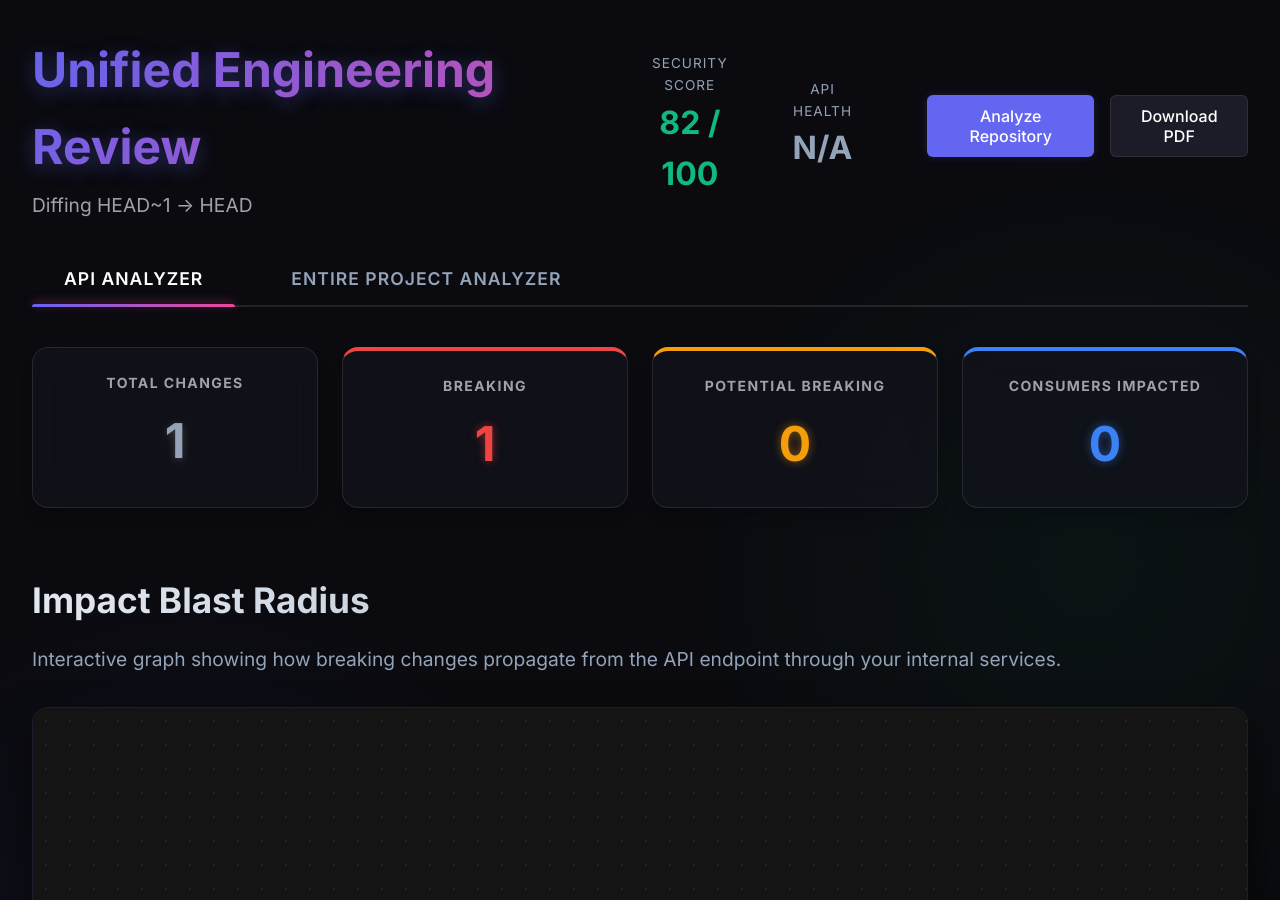
Test: AnalysisReportView › 3. Real issue rendering & 6. Evidence rendering
The width and height of the screenshot is (1280, 900).
Click the button "ENTIRE PROJECT ANALYZER" at (426, 279), box [259,252,593,305]
(page scrolled)
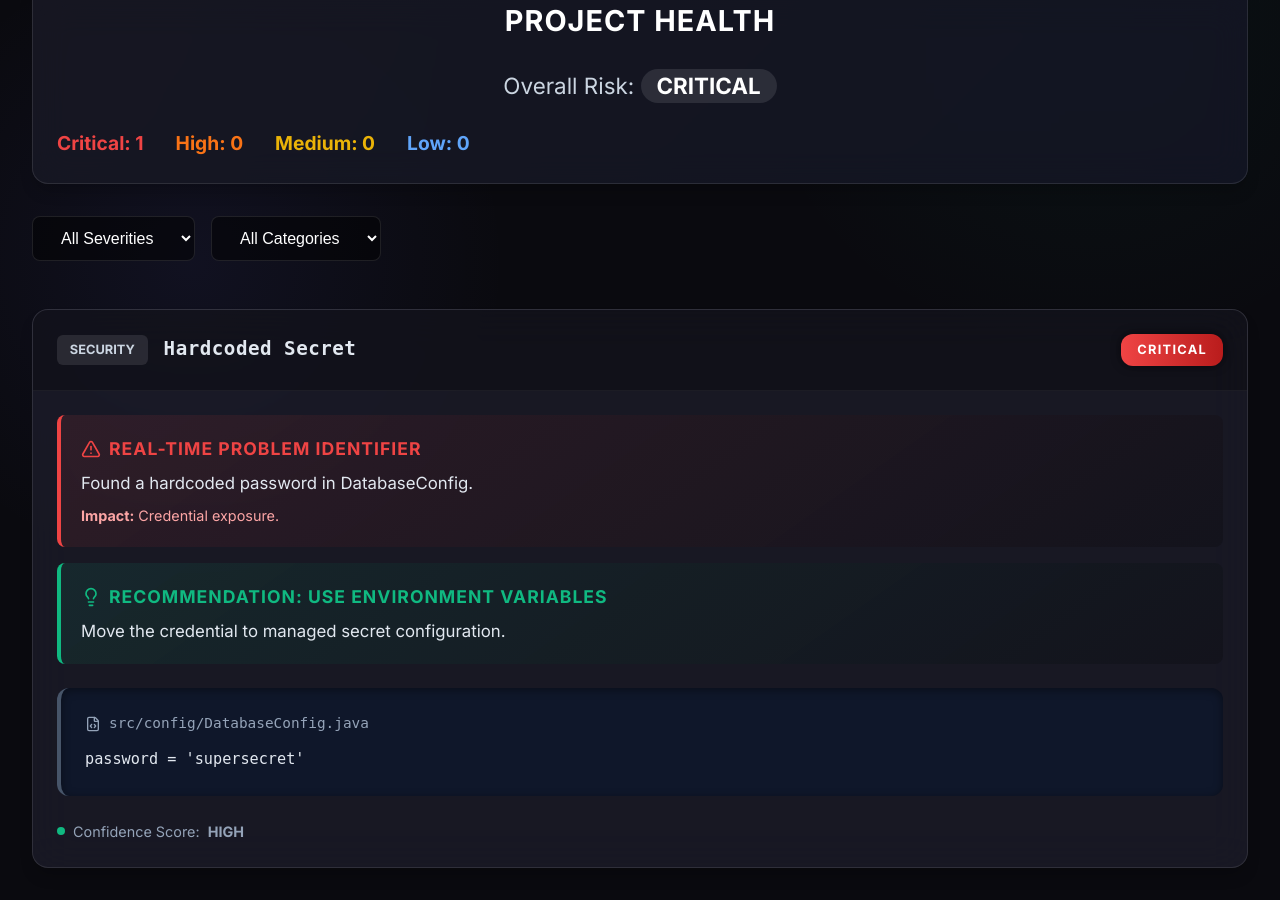
Result: the text "Hardcoded Secret" is shown at [164,334,356,365]
Result: the text "password = 'supersecret'" is shown at [85,750,304,768]
Result: the text "src/config/DatabaseConfig.java" is shown at [85,715,369,732]
